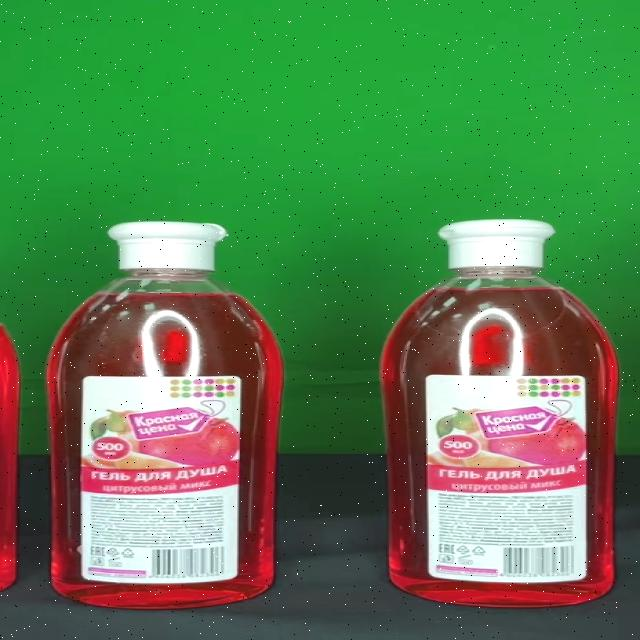Bottle: (379, 220, 619, 606), (45, 223, 284, 609)
Cap: (106, 222, 229, 271), (438, 220, 556, 270)
